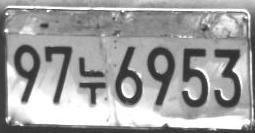3: (212, 48, 241, 107)
5: (181, 47, 208, 107)
6: (114, 46, 142, 105)
7: (43, 45, 73, 103)
9: (146, 46, 175, 105), (13, 43, 41, 103)
누: (78, 56, 106, 104)
